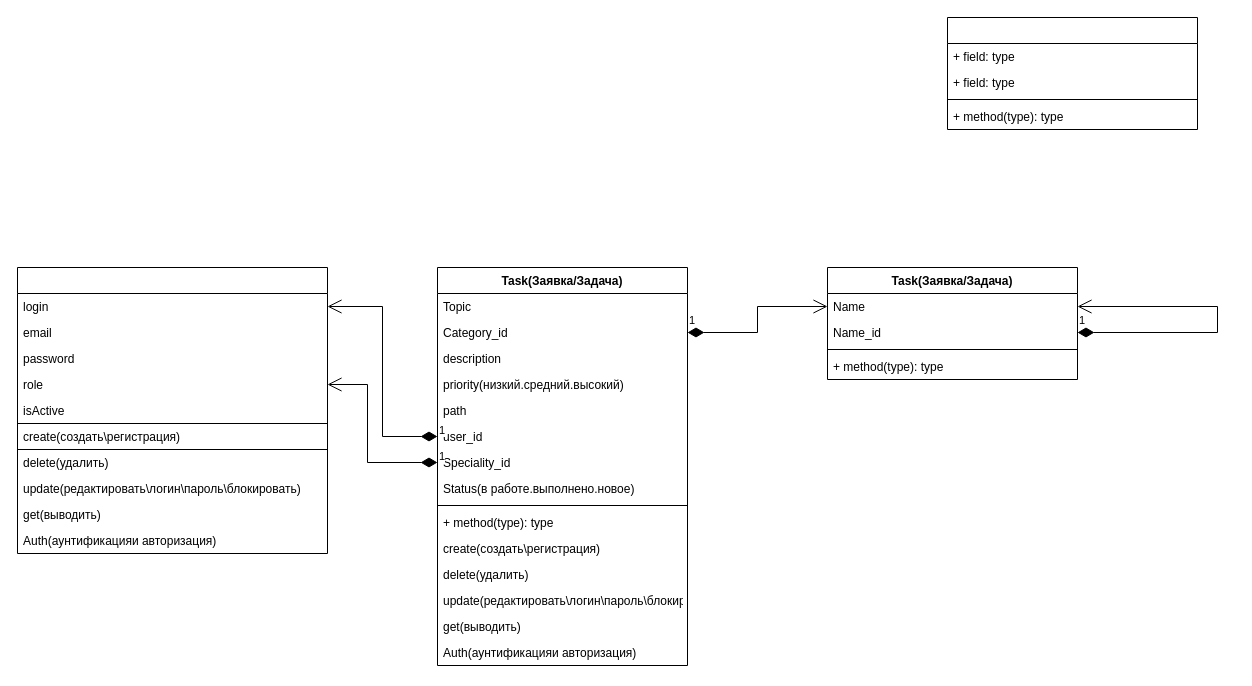
Image size: 1252x686. Some labels were removed from this diagram. The shapes that lost their labels are listed below. From the top down, each one's box as (x1, y1, x2, y2) in pixels, then its label:
(946, 16, 1198, 130): Paneluser(панель пользователя)
(16, 266, 328, 554): user(пользователь)
